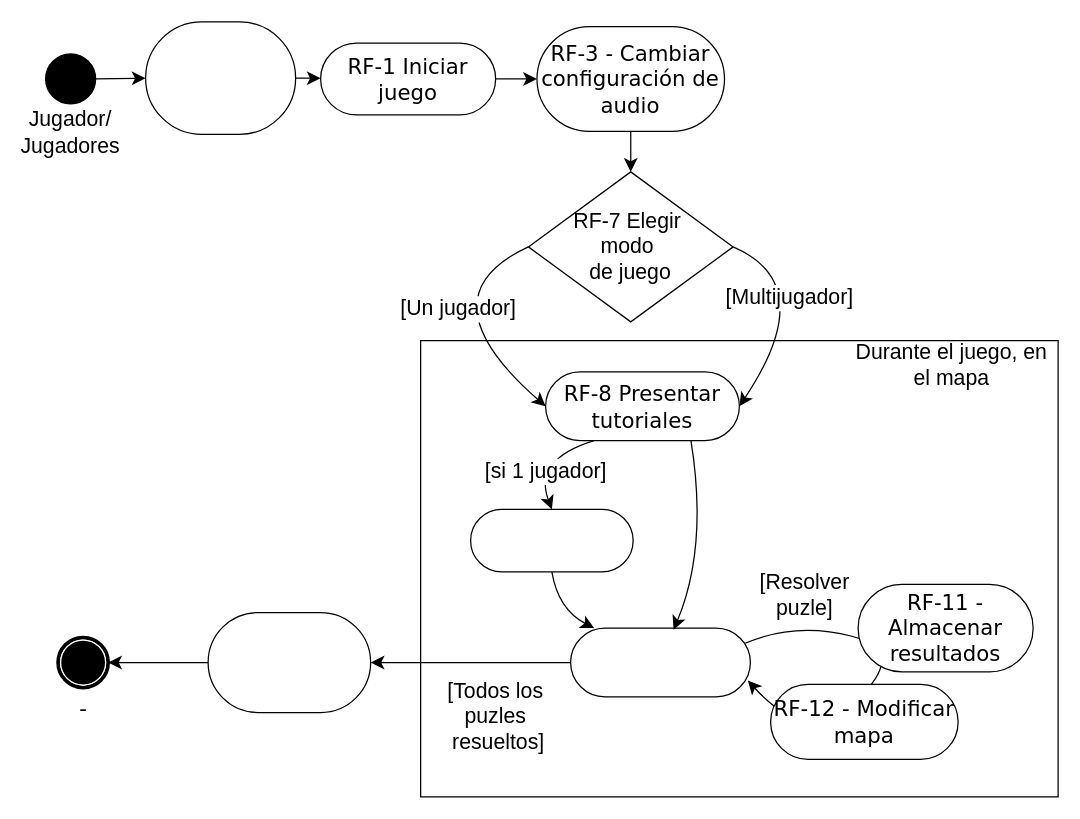
Some shapes in this 1080 by 819 pixel diagram are drawn without their labels. The shapes that lost their labels are listed below. From the top down, each one's centre as x and y in pixels, then its label:
At pixel 220 77: "RF-5 - Informar sobre controles".
At pixel 551 540: "RF-9 - Ubicar jugador".
At pixel 289 661: "RF-13 - Informar sobre fin del juego".
At pixel 659 662: "RF-10 - Mostrar puzles".
